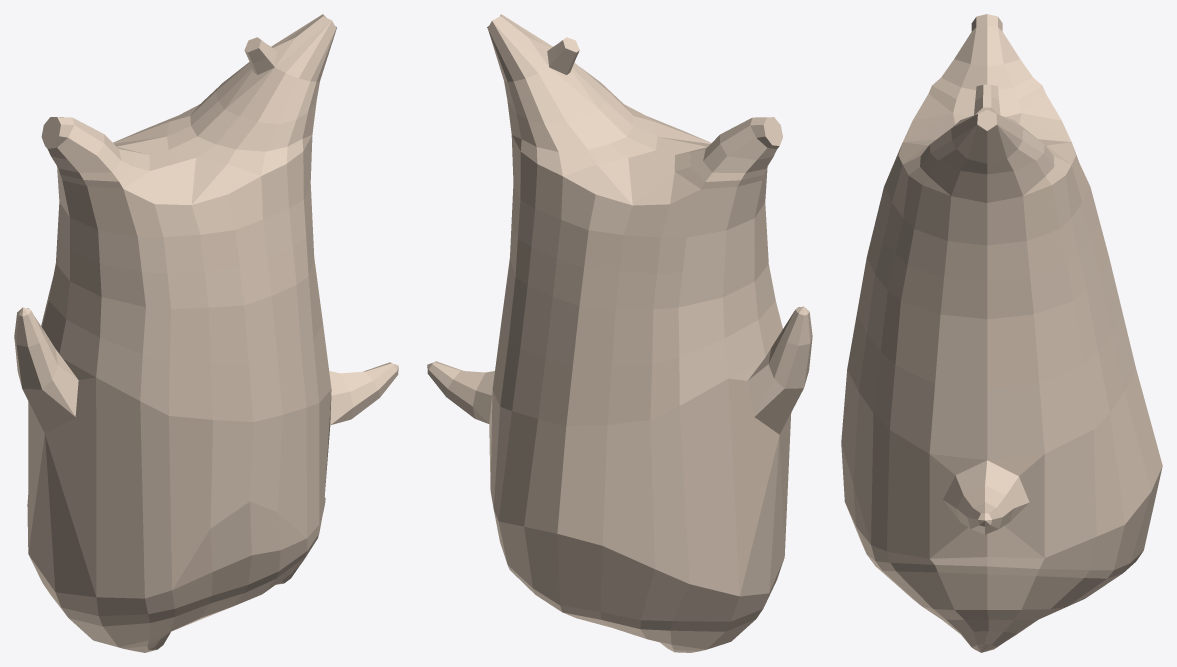
File: frame_0115.obj
The picture shows the model from 3 angles, left to right: view 1: azimuth 30°, elevation 25°; view 2: azimuth 150°, elevation 25°; view 3: azimuth 270°, elevation 25°; orthographic projection.
Visible parts, largest first — view 1: korok; view 2: korok; view 3: korok.
Boxes of the visible parts, <box> form: korok: <box>14,14,398,652</box>; korok: <box>427,14,812,652</box>; korok: <box>841,14,1162,652</box>.
Size of the model in its own units: 1.49 by 2.2 by 1.07.
